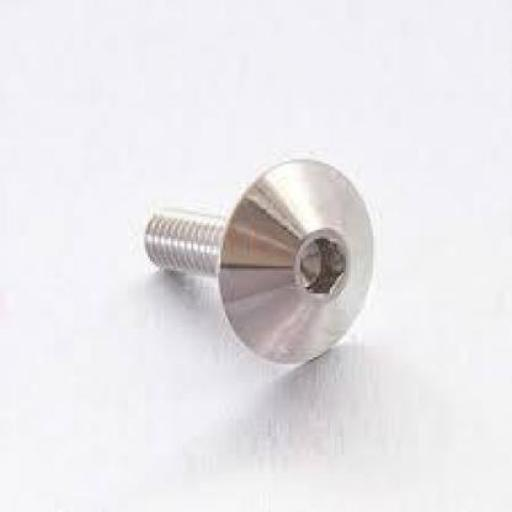bolt: (144, 158, 374, 364)
